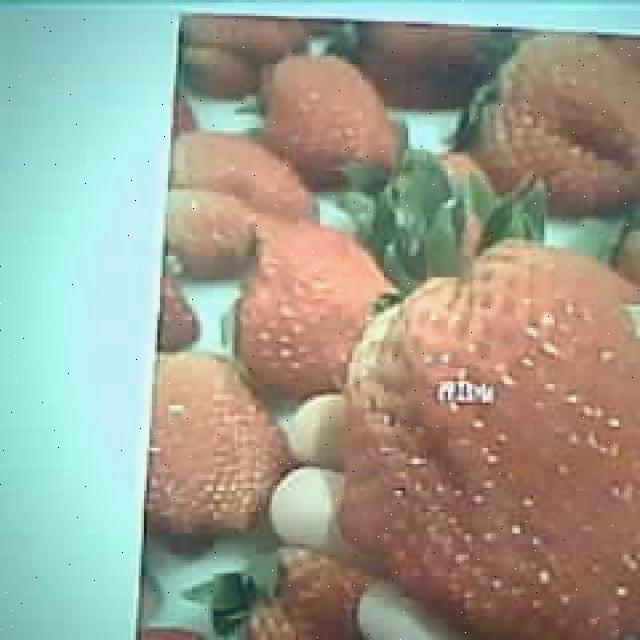ripe: (344, 232, 640, 640)
